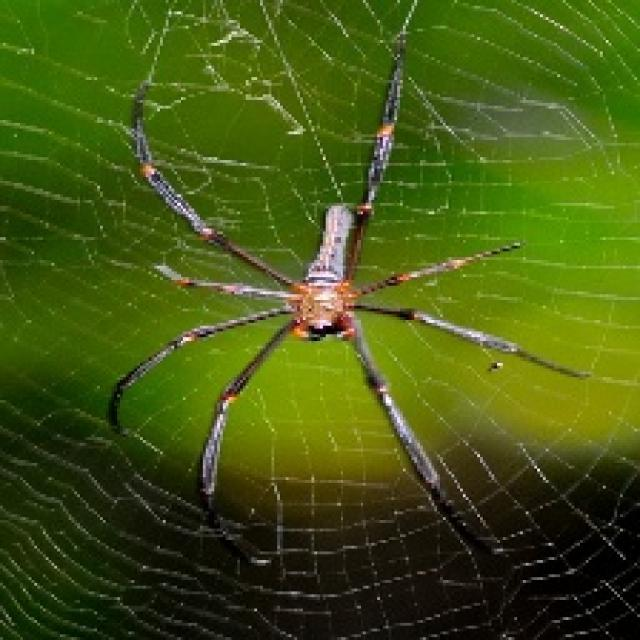Non venomous spider: (137, 159, 515, 418)
